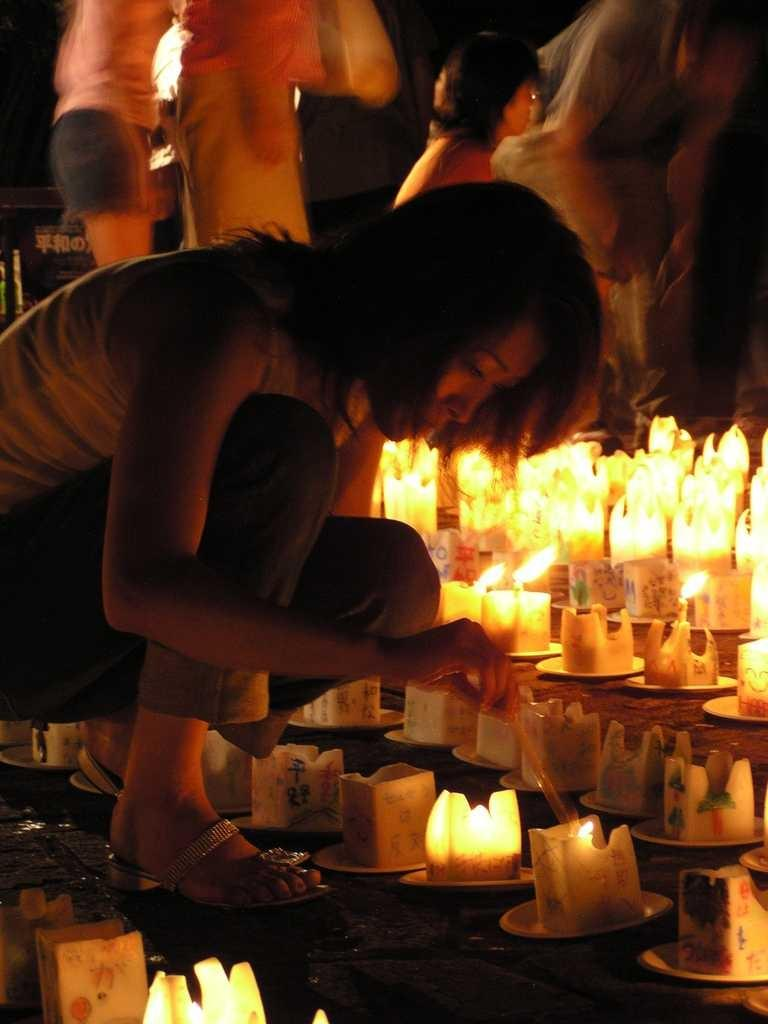fire: (379, 434, 757, 696), (417, 787, 534, 885), (129, 957, 277, 1014)
